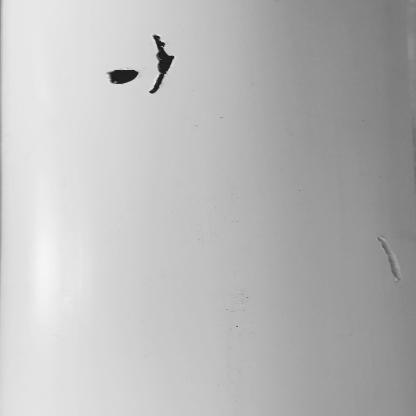kongdong: (151, 33, 177, 97), (108, 68, 138, 86)
sunshang: (376, 233, 405, 282)
